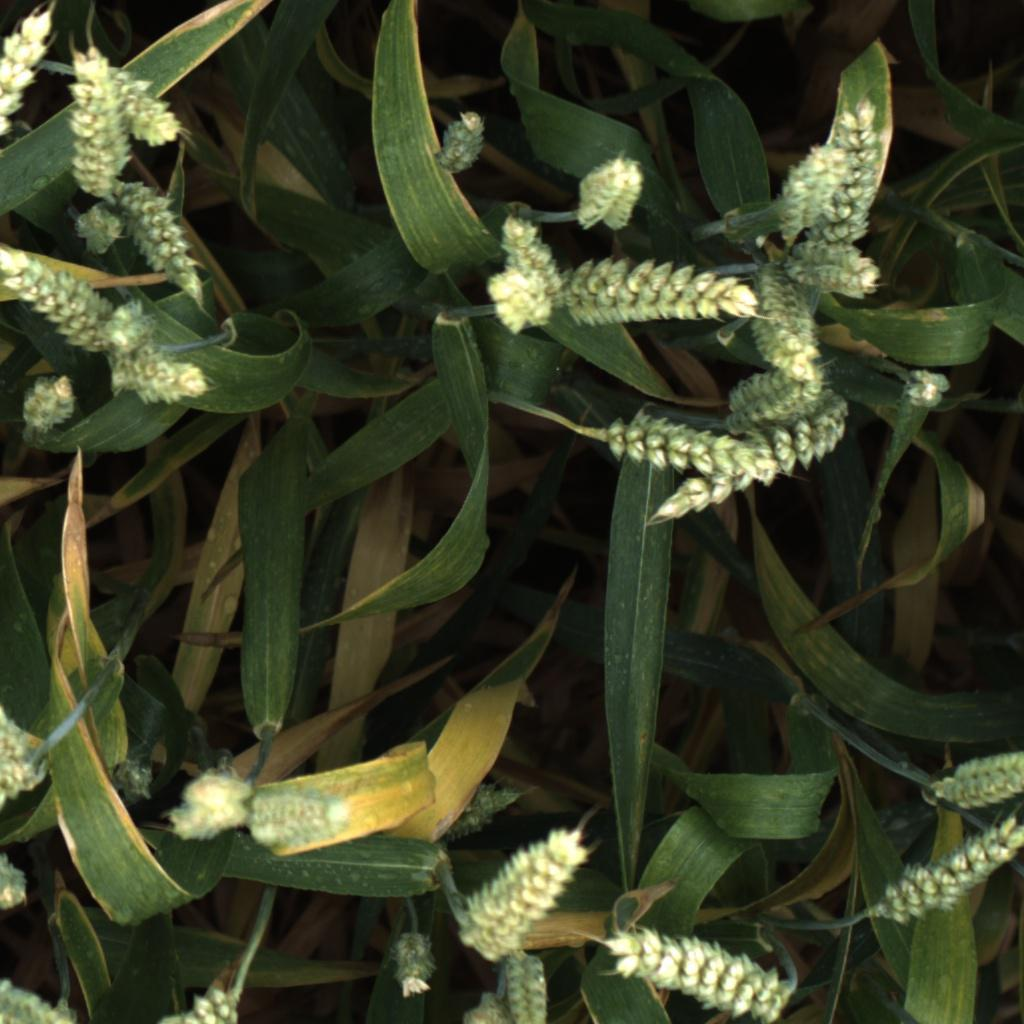0-0: (652, 393, 869, 526), (855, 803, 1024, 933), (453, 824, 591, 968), (607, 924, 788, 1024), (551, 250, 762, 330), (795, 89, 887, 256), (597, 405, 784, 485), (0, 245, 121, 358), (61, 47, 138, 195), (123, 180, 210, 306), (0, 0, 57, 192), (490, 200, 572, 319), (750, 263, 828, 388), (913, 742, 1024, 826), (99, 53, 190, 151), (728, 356, 841, 433), (769, 130, 848, 239), (164, 758, 260, 845), (252, 789, 359, 857), (0, 699, 62, 816), (781, 237, 889, 302), (112, 345, 217, 409), (572, 150, 649, 232), (484, 269, 557, 341), (494, 945, 557, 1024), (442, 782, 523, 843), (19, 366, 80, 445), (382, 925, 442, 1000), (95, 745, 161, 811), (0, 973, 81, 1024), (148, 983, 248, 1024), (99, 296, 167, 356), (433, 109, 494, 172), (892, 363, 958, 421), (72, 197, 129, 258), (0, 850, 36, 915), (457, 988, 516, 1024)
